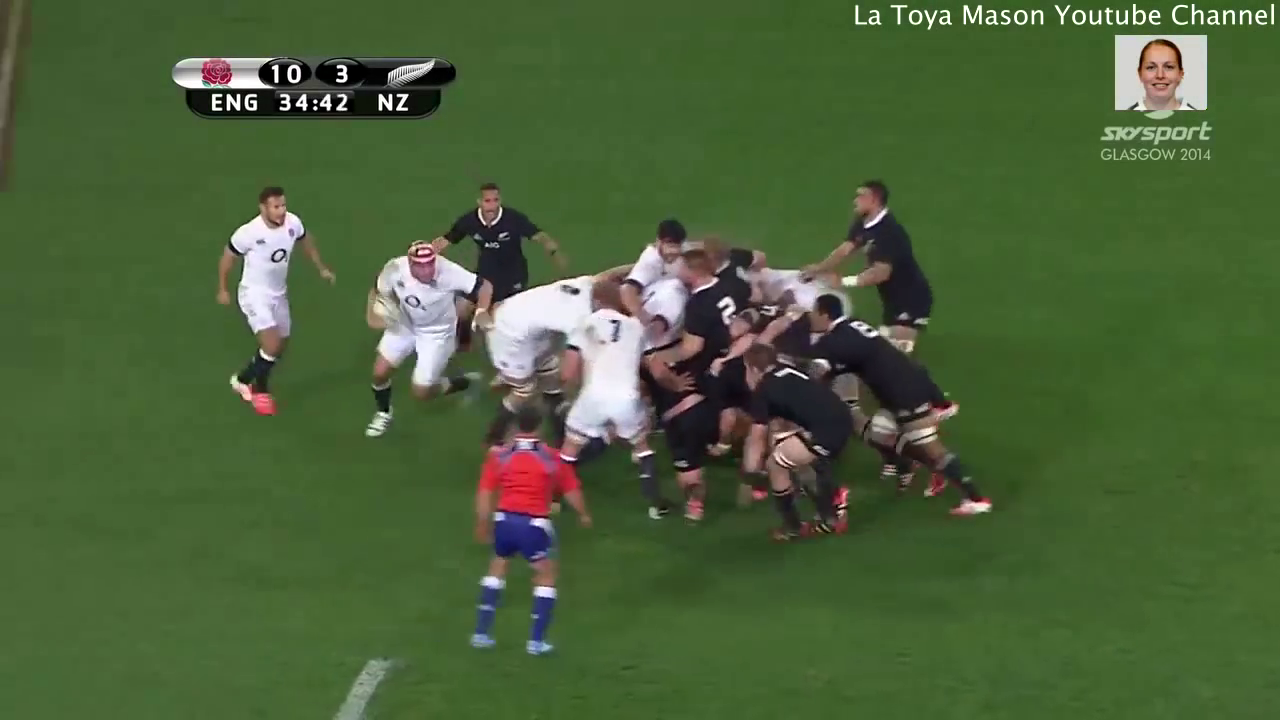ball: (357, 282, 406, 346)
player: (454, 400, 594, 670), (326, 221, 485, 454), (545, 273, 679, 528), (211, 171, 337, 423), (801, 168, 951, 376), (738, 339, 874, 552), (633, 364, 765, 519), (466, 251, 593, 405), (428, 174, 564, 307), (657, 248, 761, 360), (742, 257, 853, 328), (619, 211, 706, 292)
